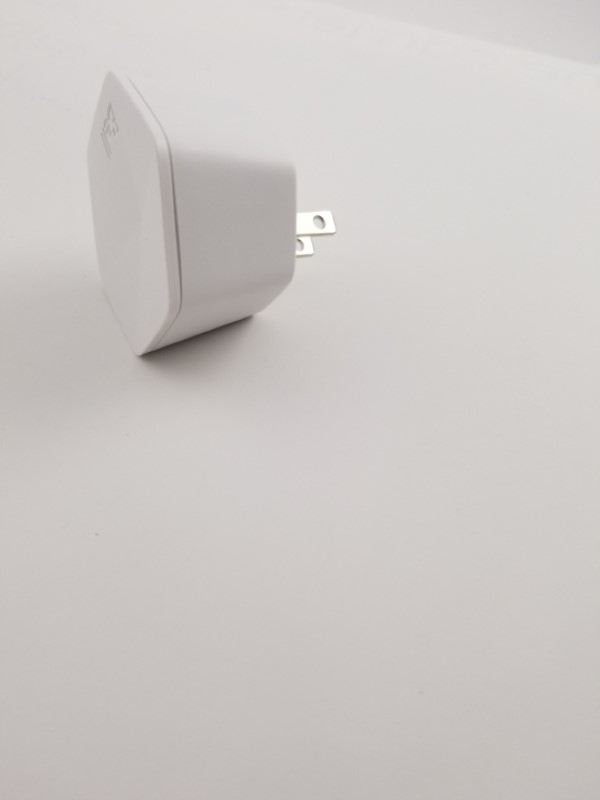pod: (81, 62, 336, 366)
